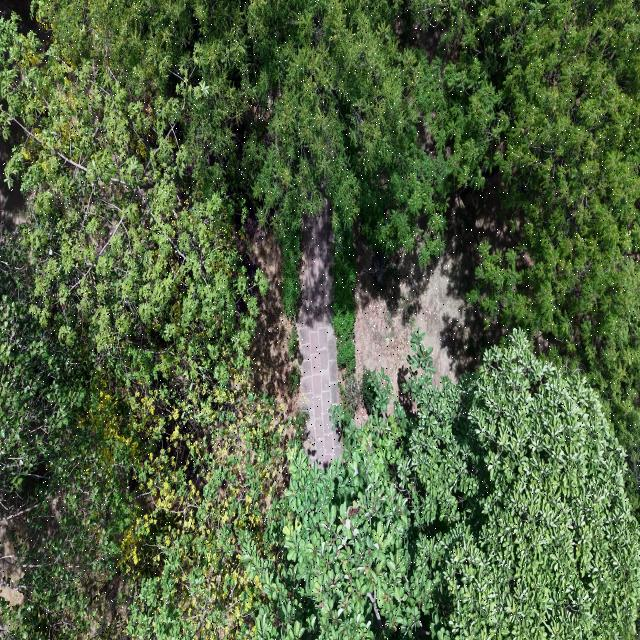DRY_AREA: (354, 174, 515, 399), (355, 176, 516, 401), (355, 177, 516, 400), (355, 174, 516, 397), (355, 174, 515, 396), (355, 178, 509, 395), (238, 212, 340, 465), (244, 204, 340, 465), (250, 203, 340, 465), (355, 225, 471, 397), (355, 224, 467, 395), (355, 251, 463, 397), (235, 212, 298, 421), (297, 206, 340, 463), (244, 218, 298, 417), (297, 322, 340, 466), (298, 199, 332, 325), (0, 509, 23, 604), (0, 0, 47, 41), (0, 179, 25, 231)
PATHWAYS: (297, 204, 340, 466)
VEGETATION_TREE: (0, 0, 639, 639), (40, 1, 639, 367), (0, 18, 285, 637), (39, 0, 495, 367), (255, 330, 639, 639), (453, 1, 639, 459), (244, 1, 467, 365)
